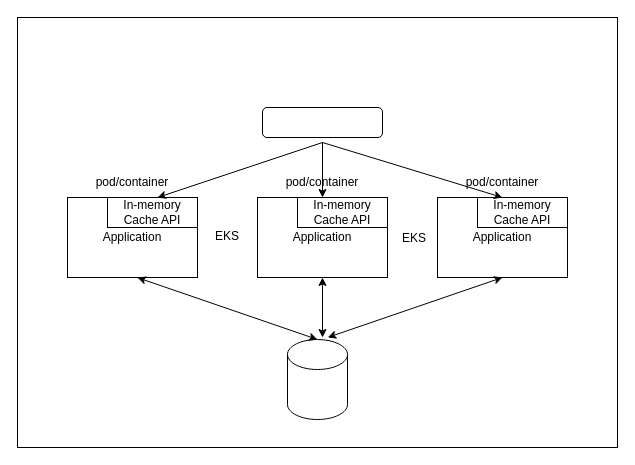
Some shapes in this 635 by 465 pixel diagram are drawn without their labels. Each missing label, with the box of its shape:
DB: (286, 338, 348, 420)
Prometheus: (262, 106, 382, 138)
